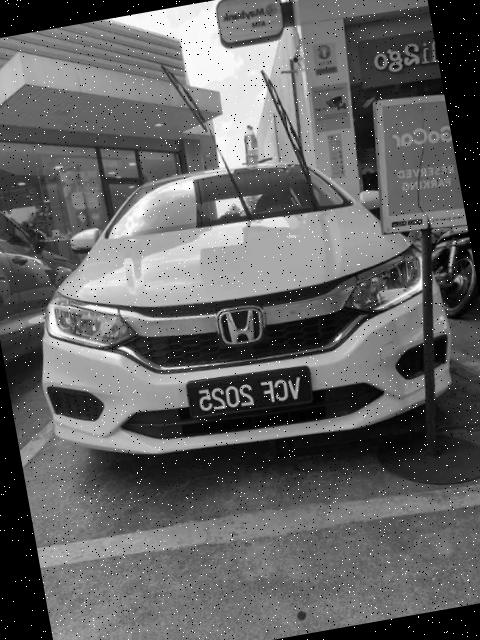License_Plate: (183, 360, 316, 425)
car: (11, 132, 467, 483)
